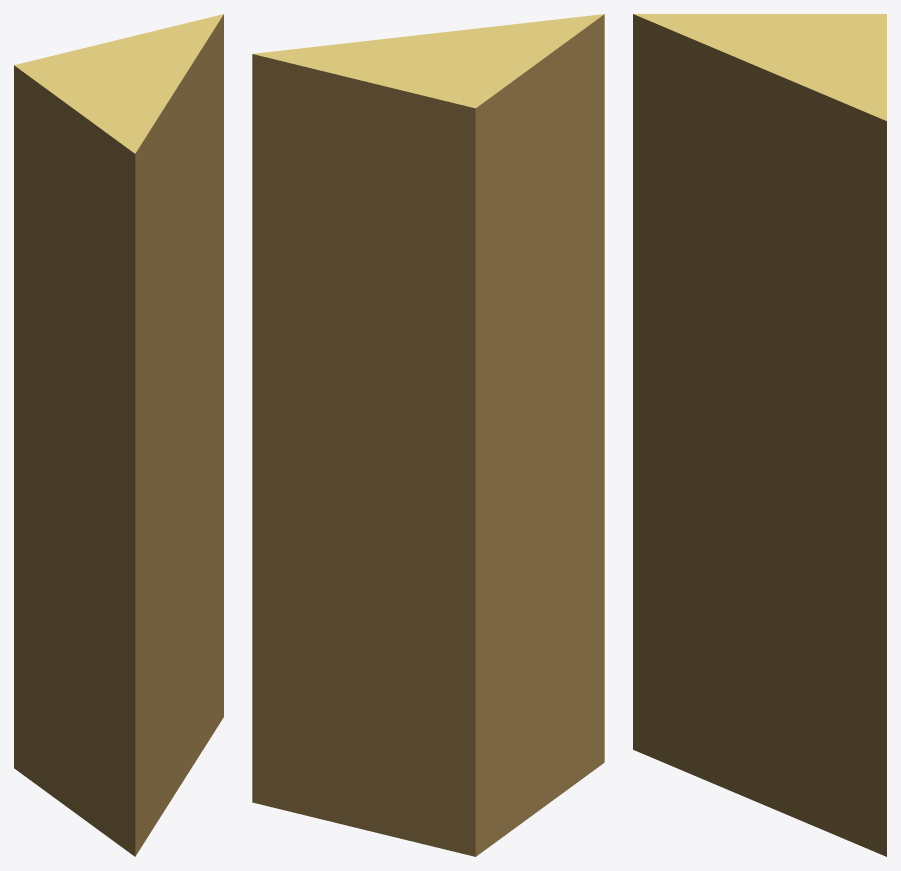
The model's file is Terrain_Modular_Tiles_Sand_Dirt_Cliff_Side_Corner_01.fbx.
3 views of the same model, side by side, from view 1: azimuth 30°, elevation 25°; view 2: azimuth 150°, elevation 25°; view 3: azimuth 270°, elevation 25° (orthographic). The views are drawn at different scales.
Visible parts, largest first — view 1: Terrain_Modular_Tiles_Sand_Dirt_Cliff_Side_Corner_01; view 2: Terrain_Modular_Tiles_Sand_Dirt_Cliff_Side_Corner_01; view 3: Terrain_Modular_Tiles_Sand_Dirt_Cliff_Side_Corner_01.
Boxes of the visible parts, x1,y1,x2,y2 form: Terrain_Modular_Tiles_Sand_Dirt_Cliff_Side_Corner_01: (14, 14, 223, 856); Terrain_Modular_Tiles_Sand_Dirt_Cliff_Side_Corner_01: (252, 14, 604, 856); Terrain_Modular_Tiles_Sand_Dirt_Cliff_Side_Corner_01: (633, 14, 886, 856).
Size of the model in its own units: 750 by 2400 by 750.
